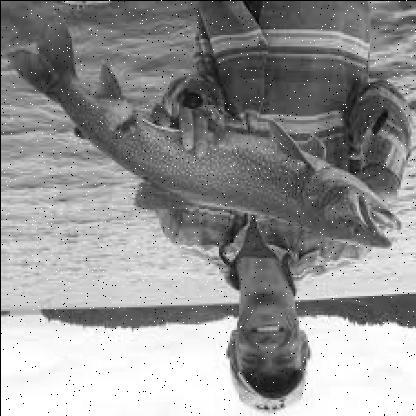fish: (3, 10, 402, 251)
